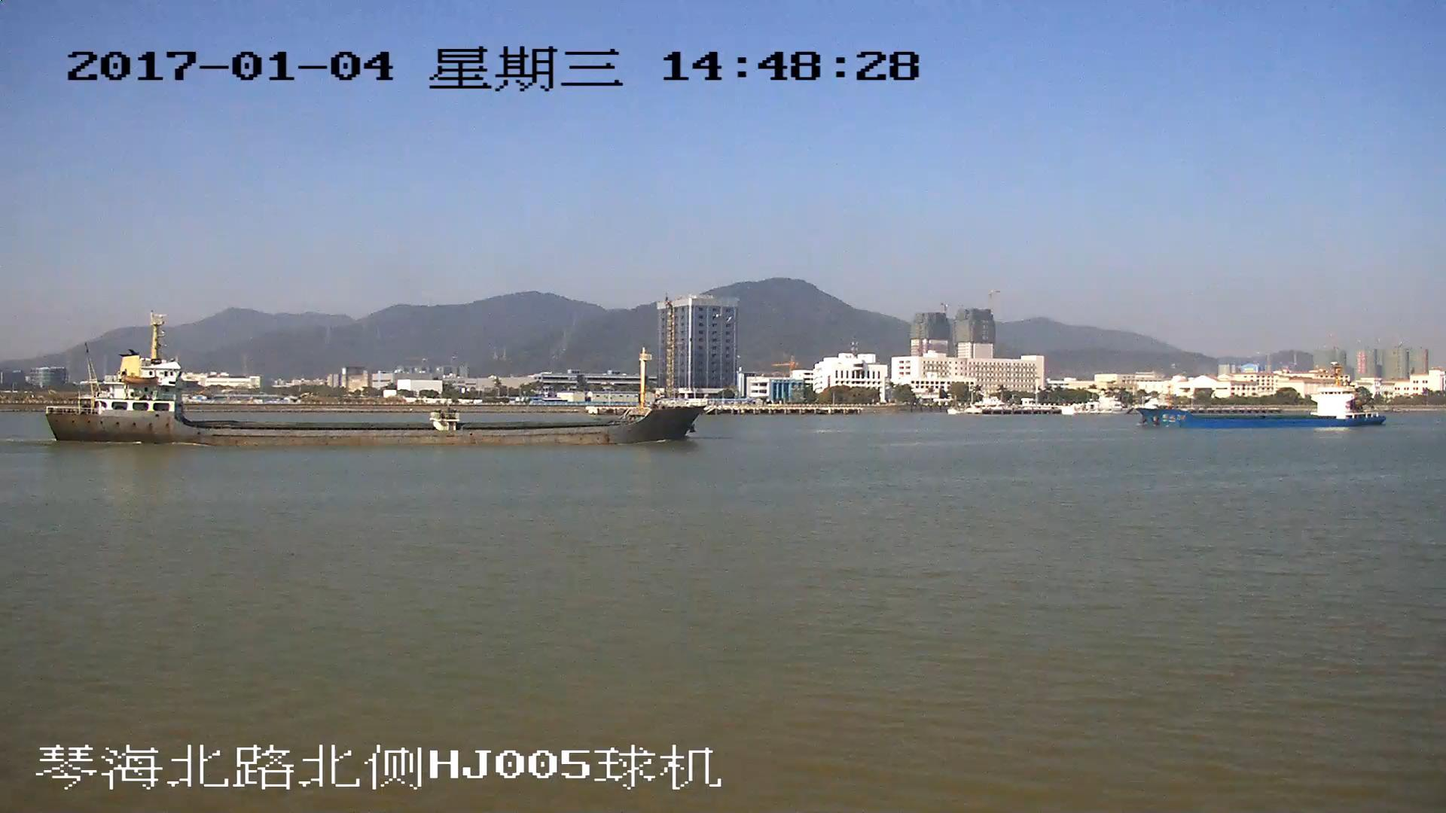general cargo ship: (45, 316, 700, 446), (1144, 378, 1382, 430)
